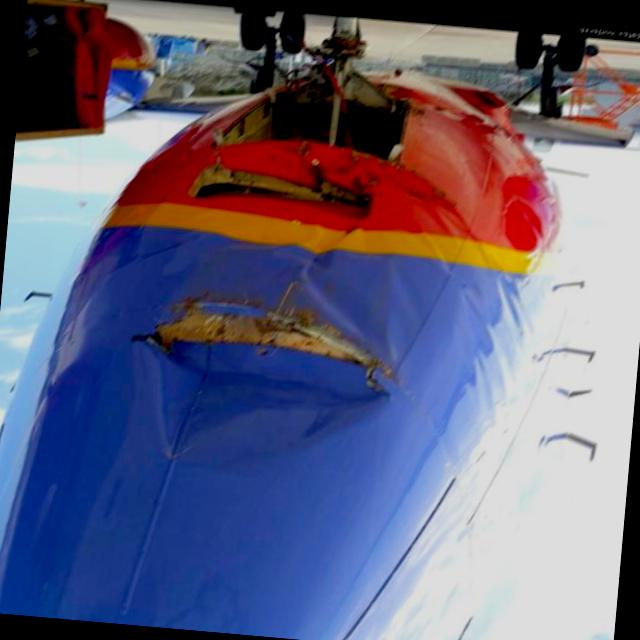dent: (132, 341, 390, 482), (298, 265, 382, 341)
